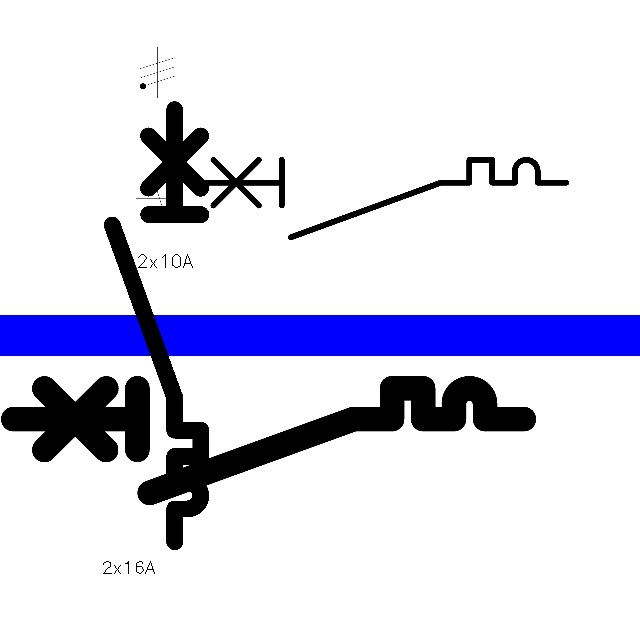interruptor_termomagnetico: (0, 375, 537, 506), (101, 98, 212, 553), (180, 150, 575, 246)
